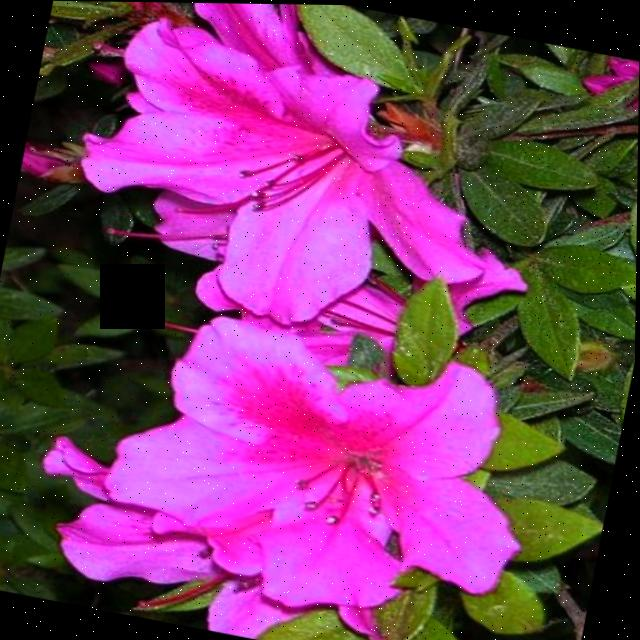azalea: (31, 0, 529, 333), (100, 297, 532, 627)
